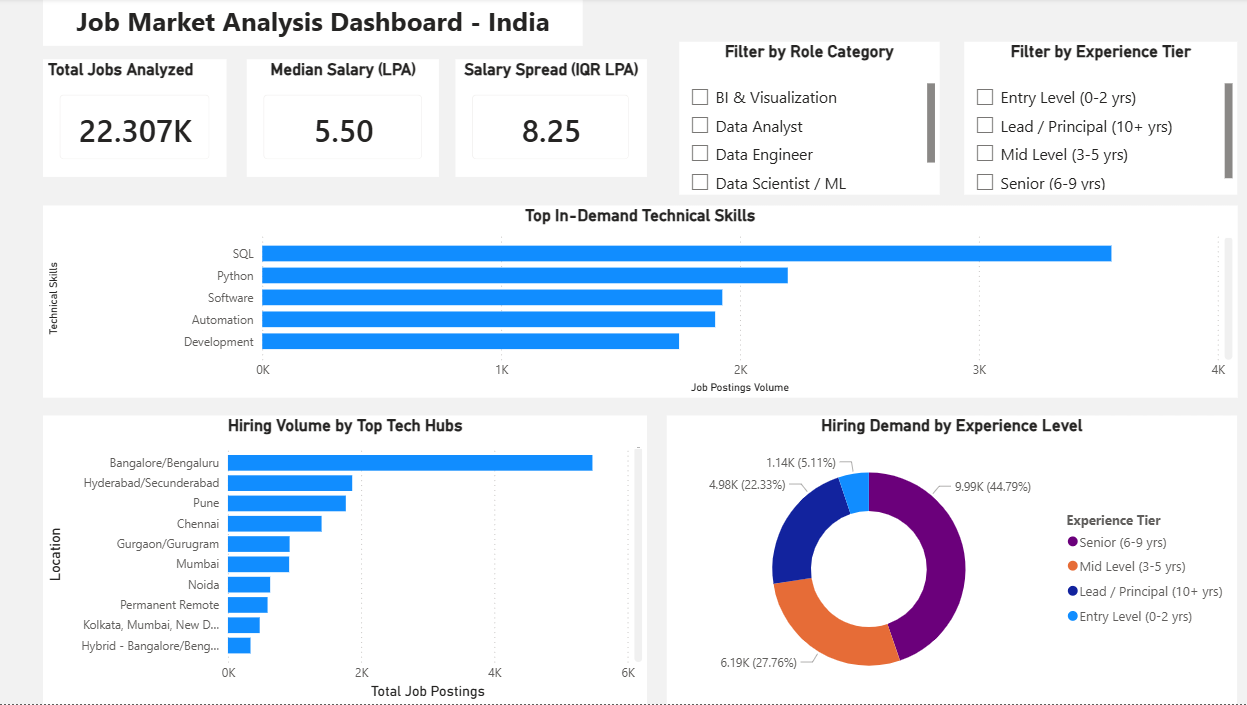

Layout of this report page (visuals, bound fields, positions):
{"tool":"powerbi","page":{"name":"Market Analysis","canvas":[1280,720],"ordinal":0},"visuals":[{"type":"textbox","box":[51,0,550.7,48.4],"z":0},{"type":"cardVisual","title":"Total Jobs Analyzed","fields":{"Data":["Count(job_market_analysis fact_jobs (2).job_id)"]},"box":[51,62.5,187.4,119.8],"z":1000},{"type":"cardVisual","title":"Median Salary (LPA)","fields":{"Data":["job_market_analysis bridge_job_skills.Median Salary LPA"]},"box":[258.4,62.1,196.3,119.8],"z":2000},{"type":"cardVisual","title":"Salary Spread (IQR LPA)","fields":{"Data":["job_market_analysis bridge_job_skills.Salary IQR LPA"]},"box":[472,62.1,194.9,119.8],"z":3000},{"type":"clusteredBarChart","title":"Top In-Demand Technical Skills","fields":{"Category":["job_market_analysis dim_skills.skill_name"],"Y":["CountNonNull(job_market_analysis bridge_job_skills.job_id)"]},"box":[50.5,212.2,1218.2,196.3],"z":4000},{"type":"donutChart","title":"Hiring Demand by Experience Level","fields":{"Category":["job_market_analysis fact_jobs (2).experience_tier"],"Y":["CountNonNull(job_market_analysis fact_jobs (2).job_id)"]},"box":[687.1,425.8,581.7,294.5],"z":5000},{"type":"clusteredBarChart","title":"Hiring Volume by Top Tech Hubs","fields":{"Category":["job_market_analysis fact_jobs (2).location_raw"],"Y":["CountNonNull(job_market_analysis fact_jobs (2).job_id)"]},"box":[50.5,425.8,616.3,294.5],"z":6000},{"type":"slicer","title":"Filter by Role Category","fields":{"Values":["job_market_analysis fact_jobs (2).role_category"]},"box":[700,44.7,265.6,155.9],"z":7000},{"type":"slicer","title":"Filter by Experience Tier","fields":{"Values":["job_market_analysis fact_jobs (2).experience_tier"]},"box":[990.2,44.7,278.6,155.9],"z":8000}]}

Visuals, with their boxes in screenshot pixels (x1, y1, x2, y2), scaled from the page's 1280x720 canvas onto the 1247x705 screenshot:
textbox: bbox=[50, 0, 586, 47]
"Total Jobs Analyzed" cardVisual: bbox=[50, 61, 232, 179]
"Median Salary (LPA)" cardVisual: bbox=[252, 61, 443, 178]
"Salary Spread (IQR LPA)" cardVisual: bbox=[460, 61, 650, 178]
"Top In-Demand Technical Skills" clusteredBarChart: bbox=[49, 208, 1236, 400]
"Hiring Demand by Experience Level" donutChart: bbox=[669, 417, 1236, 704]
"Hiring Volume by Top Tech Hubs" clusteredBarChart: bbox=[49, 417, 650, 704]
"Filter by Role Category" slicer: bbox=[682, 44, 941, 196]
"Filter by Experience Tier" slicer: bbox=[965, 44, 1236, 196]
